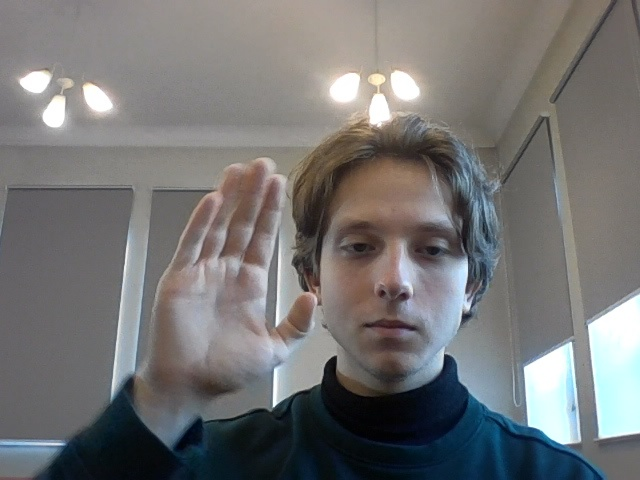hello: (143, 154, 326, 401)
